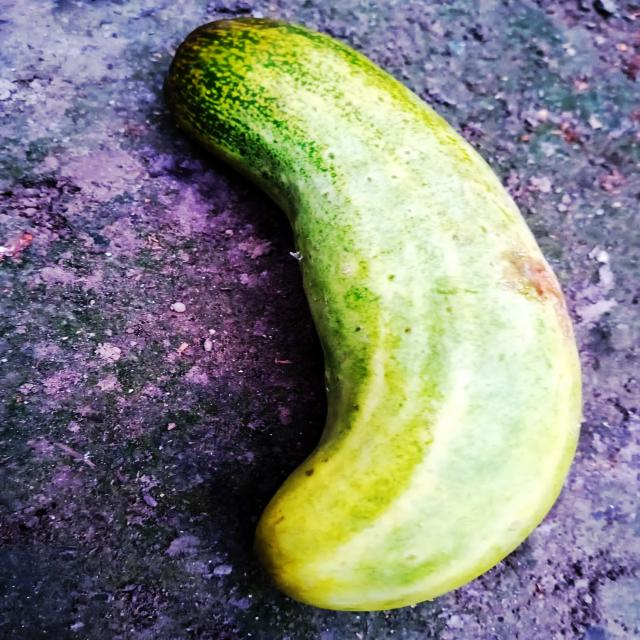Belly-Rot: (491, 239, 573, 344)
